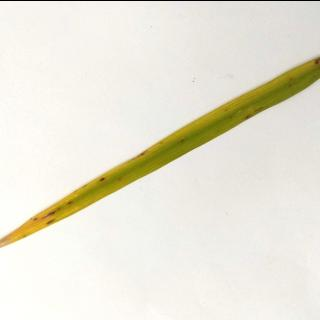bercak-Cokelat: (307, 54, 320, 68), (100, 173, 110, 186)
